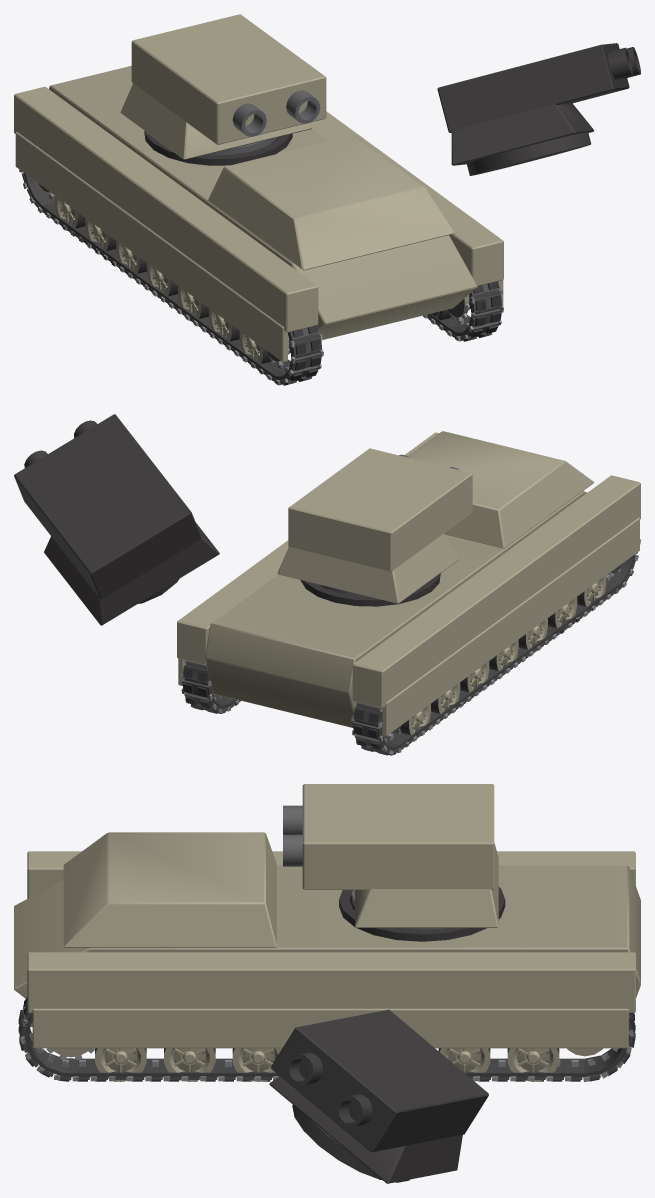
The model's file is mineClearer__ur_77_meteorit.glb.
The picture shows the model from 3 angles, top to bottom: view 1: azimuth 30°, elevation 25°; view 2: azimuth 150°, elevation 25°; view 3: azimuth 270°, elevation 25°; orthographic projection. The views are drawn at different scales.
Parts seen in each view (by area): view 1: Hull_Mesh, Wreck, Gun_Mesh, Track_L_Mesh, Turret_Mesh, Track_R_Mesh, Wheel_L0_Mesh, Wheel_L1_Mesh, Wheel_L2_Mesh, Wheel_L5_Mesh; view 2: Hull_Mesh, Wreck, Gun_Mesh, Turret_Mesh, Track_L_Mesh, Track_R_Mesh; view 3: Hull_Mesh, Wreck, Gun_Mesh, Track_R_Mesh, Turret_Mesh, Wheel_R0_Mesh, Wheel_R6_Mesh, Wheel_R5_Mesh, Wheel_R4_Mesh, Wheel_R1_Mesh.
Part boxes in pixels (<box>): Hull_Mesh: <box>14,66,503,362</box>; Wreck: <box>19,43,640,384</box>; Gun_Mesh: <box>131,14,326,144</box>; Track_L_Mesh: <box>19,170,323,385</box>; Turret_Mesh: <box>120,83,312,159</box>; Track_R_Mesh: <box>423,281,503,341</box>; Wheel_L0_Mesh: <box>54,196,85,231</box>; Wheel_L1_Mesh: <box>85,218,116,251</box>; Wheel_L2_Mesh: <box>116,241,147,275</box>; Wheel_L5_Mesh: <box>209,308,239,341</box>; Hull_Mesh: <box>177,431,640,735</box>; Wreck: <box>14,414,640,754</box>; Gun_Mesh: <box>288,448,472,572</box>; Turret_Mesh: <box>277,533,458,603</box>; Track_L_Mesh: <box>351,539,640,755</box>; Track_R_Mesh: <box>180,660,240,713</box>; Hull_Mesh: <box>14,832,640,1048</box>; Wreck: <box>18,887,634,1183</box>; Gun_Mesh: <box>283,784,494,889</box>; Track_R_Mesh: <box>19,997,635,1081</box>; Turret_Mesh: <box>351,843,498,929</box>; Wheel_R0_Mesh: <box>507,1048,559,1081</box>; Wheel_R6_Mesh: <box>95,1048,146,1081</box>; Wheel_R5_Mesh: <box>164,1048,215,1081</box>; Wheel_R4_Mesh: <box>232,1048,282,1081</box>; Wheel_R1_Mesh: <box>438,1048,490,1080</box>.
Size of what is drawn, in the model's own units: 7.15 by 2.6 by 6.93.
